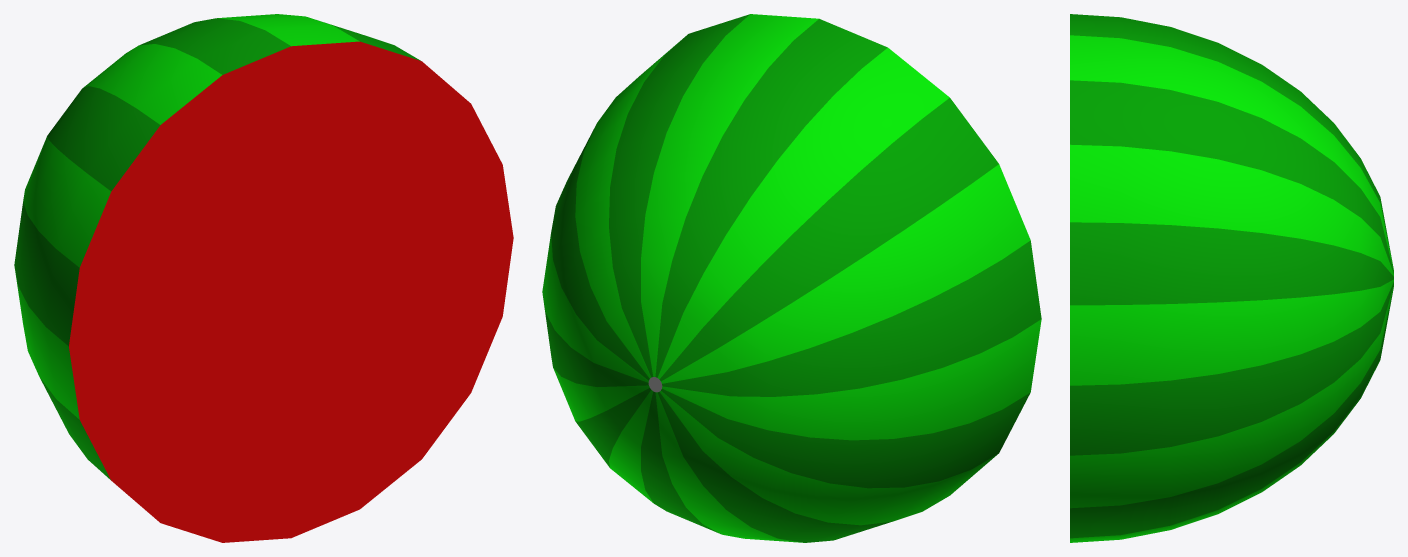
The model's file is watermelon_right.fbx.
The picture shows the model from 3 angles, left to right: view 1: azimuth 30°, elevation 25°; view 2: azimuth 150°, elevation 25°; view 3: azimuth 270°, elevation 25°; orthographic projection.
Visible parts, largest first — view 1: pasted__polySurface1; view 2: pasted__polySurface1; view 3: pasted__polySurface1.
Boxes of the visible parts, x1,y1,x2,y2 form: pasted__polySurface1: (14,14,513,542); pasted__polySurface1: (542,14,1041,542); pasted__polySurface1: (1070,14,1393,542).
Bounding box in the file's own units: 2 × 2.11 × 1.28.
